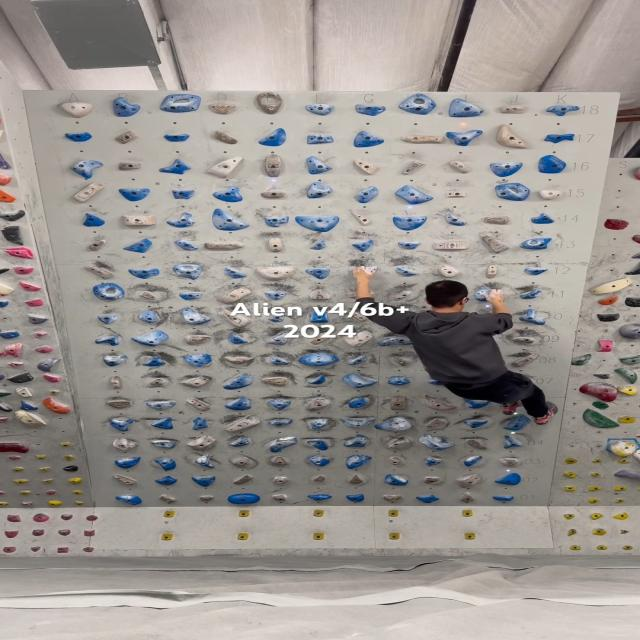A1: (115, 494, 143, 506)
A10: (97, 314, 119, 324)
A11: (93, 282, 125, 300)
A12: (86, 266, 114, 280)
A13: (88, 240, 106, 251)
A14: (82, 213, 105, 227)
A15: (72, 182, 105, 203)
A16: (70, 159, 104, 179)
A17: (65, 132, 92, 142)
A18: (59, 101, 95, 119)
A2: (112, 474, 137, 486)
A3: (114, 456, 141, 469)
A4: (112, 437, 139, 450)
A5: (110, 418, 134, 432)
A6: (107, 400, 131, 409)
A7: (111, 376, 123, 389)
A8: (103, 355, 129, 367)
A9: (95, 335, 119, 346)
B1: (158, 494, 178, 503)
B10: (138, 310, 158, 324)
B11: (140, 291, 156, 300)
B12: (128, 269, 160, 279)
B13: (124, 238, 152, 254)
B14: (122, 215, 156, 227)
B15: (119, 188, 150, 201)
B16: (118, 161, 143, 171)
B17: (115, 130, 139, 144)
B18: (113, 98, 140, 118)
B2: (154, 476, 178, 486)
B3: (154, 458, 177, 471)
B4: (150, 440, 176, 449)
B5: (151, 417, 174, 430)
B6: (146, 400, 177, 410)
B7: (149, 378, 167, 387)
B8: (142, 356, 166, 367)
B9: (131, 330, 169, 347)
C1: (199, 495, 214, 501)
C10: (180, 307, 212, 325)
C11: (178, 292, 202, 300)
C12: (174, 264, 204, 279)
C13: (173, 239, 198, 251)
C14: (166, 212, 196, 228)
C15: (172, 190, 195, 200)
C16: (158, 159, 191, 175)
C17: (164, 134, 190, 142)
C18: (159, 94, 201, 113)
C2: (192, 476, 216, 488)
C3: (194, 454, 215, 468)
C4: (185, 434, 217, 450)
C5: (192, 417, 208, 430)
C6: (186, 398, 210, 411)
C7: (180, 374, 212, 388)
C8: (183, 353, 212, 367)
C9: (185, 336, 211, 345)
D1: (227, 494, 260, 504)
D11: (218, 286, 252, 304)
D12: (223, 267, 247, 279)
D13: (204, 242, 245, 250)
D14: (212, 208, 249, 231)
D15: (212, 185, 243, 202)
D16: (205, 155, 243, 179)
D17: (211, 131, 239, 145)
D18: (208, 104, 239, 115)
D2: (233, 474, 253, 484)
D3: (234, 457, 250, 466)
D4: (229, 436, 251, 447)
D5: (224, 415, 260, 432)
D6: (225, 396, 252, 410)
D7: (221, 374, 255, 391)
D8: (224, 356, 255, 364)
D9: (228, 333, 248, 344)
E1: (272, 494, 288, 501)
E11: (264, 292, 286, 301)
E12: (256, 266, 296, 280)
E13: (268, 238, 282, 252)
E14: (264, 216, 290, 228)
E15: (261, 191, 286, 198)
E16: (264, 154, 282, 178)
E17: (258, 128, 286, 147)
E18: (254, 92, 282, 115)
E2: (273, 476, 290, 486)
E3: (270, 456, 290, 466)
E4: (269, 437, 298, 452)
E5: (268, 418, 292, 426)
E6: (267, 398, 292, 411)
E7: (262, 377, 288, 386)
E8: (269, 355, 289, 366)
F: (238, 510, 251, 518), (312, 509, 325, 517), (164, 510, 176, 518), (162, 533, 174, 541), (313, 532, 325, 540), (462, 509, 474, 517), (389, 532, 400, 540), (237, 533, 249, 540), (387, 509, 399, 516), (464, 533, 476, 540)
F1: (307, 494, 332, 501)
F11: (309, 289, 330, 299)
F12: (306, 268, 330, 280)
F13: (310, 239, 329, 251)
F14: (294, 215, 340, 232)
F15: (306, 182, 332, 199)
F16: (305, 156, 331, 175)
F17: (306, 135, 334, 145)
F18: (304, 104, 335, 116)
F2: (313, 475, 326, 483)
F3: (305, 456, 330, 466)
F4: (306, 438, 328, 451)
F5: (310, 418, 330, 429)
F6: (305, 397, 330, 411)
F7: (308, 374, 326, 385)
F8: (298, 352, 340, 366)
G1: (345, 493, 365, 502)
G13: (352, 239, 374, 252)
G14: (351, 212, 372, 227)
G15: (354, 186, 378, 204)
G16: (353, 159, 381, 176)
G17: (354, 131, 385, 148)
G18: (355, 104, 386, 116)
G2: (348, 474, 363, 484)
G3: (345, 454, 372, 470)
G4: (342, 434, 368, 448)
G5: (341, 416, 374, 429)
G6: (348, 397, 367, 409)
G7: (342, 372, 378, 388)
G8: (345, 355, 368, 366)
H1: (382, 494, 402, 501)
H11: (394, 291, 412, 301)
H12: (396, 266, 419, 276)
H13: (397, 240, 421, 250)
H14: (392, 216, 426, 230)
H15: (394, 185, 433, 205)
H16: (402, 160, 425, 175)
H17: (401, 135, 446, 144)
H18: (398, 93, 436, 115)
H2: (384, 473, 408, 486)
H3: (388, 457, 402, 465)
H4: (385, 436, 410, 449)
H5: (374, 416, 412, 431)
H6: (387, 396, 407, 410)
H7: (387, 376, 410, 386)
H8: (391, 355, 409, 366)
I1: (415, 494, 439, 503)
I12: (437, 264, 459, 278)
I13: (432, 241, 470, 250)
I14: (444, 214, 466, 226)
I15: (446, 191, 466, 198)
I16: (448, 160, 471, 174)
I17: (446, 130, 483, 147)
I18: (448, 98, 483, 118)
I2: (423, 476, 440, 484)
I3: (423, 456, 442, 466)
I4: (419, 433, 454, 451)
I5: (425, 418, 444, 428)
I6: (423, 394, 456, 411)
J1: (458, 492, 474, 502)
J12: (485, 264, 498, 278)
J13: (481, 235, 509, 254)
J14: (482, 216, 510, 224)
J15: (495, 183, 529, 201)
J16: (488, 162, 522, 177)
J17: (495, 124, 529, 149)
J18: (499, 104, 530, 114)
J2: (455, 473, 482, 488)
J3: (463, 455, 482, 467)
J4: (466, 438, 489, 450)
J5: (462, 420, 488, 428)
K1: (492, 495, 515, 502)
K10: (519, 309, 545, 325)
K11: (520, 289, 542, 299)
K12: (523, 268, 548, 276)
K13: (519, 238, 551, 250)
K14: (530, 213, 554, 224)
K15: (539, 189, 563, 201)
K16: (537, 155, 567, 174)
K17: (543, 134, 575, 144)
K18: (546, 105, 580, 116)
K2: (497, 472, 521, 487)
K3: (498, 458, 520, 466)
K4: (503, 434, 524, 448)
K5: (504, 413, 531, 431)
K8: (511, 353, 540, 367)
K9: (512, 336, 534, 343)
